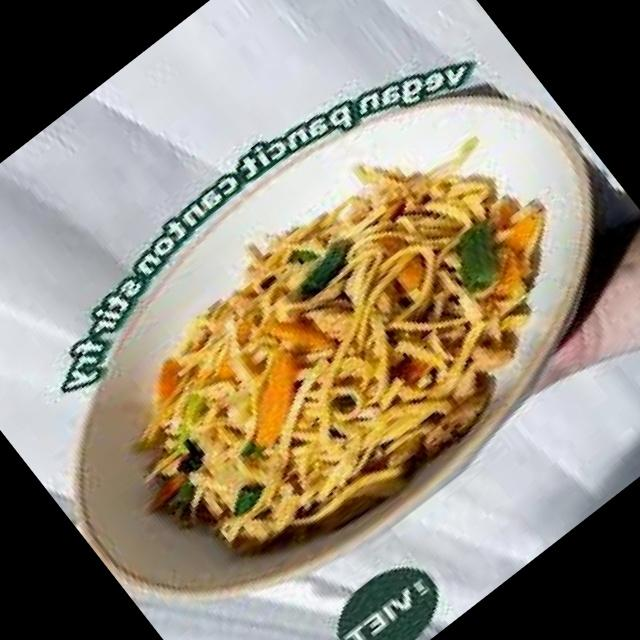pancit bihon: (149, 168, 540, 569)
